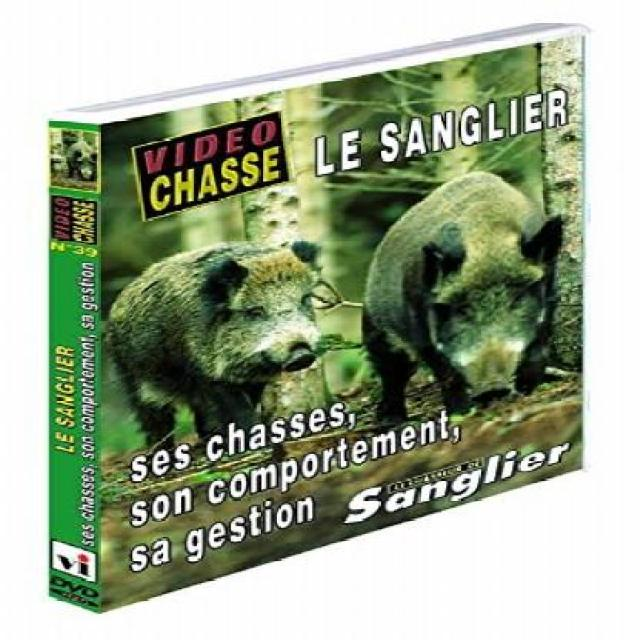wildboar: (78, 230, 365, 462), (358, 162, 578, 408)
